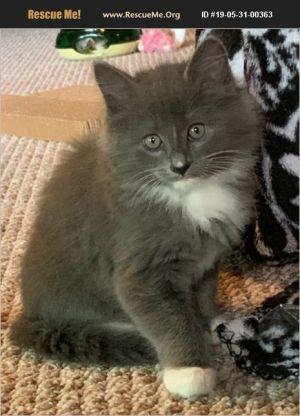rblue: (76, 17, 255, 213)
